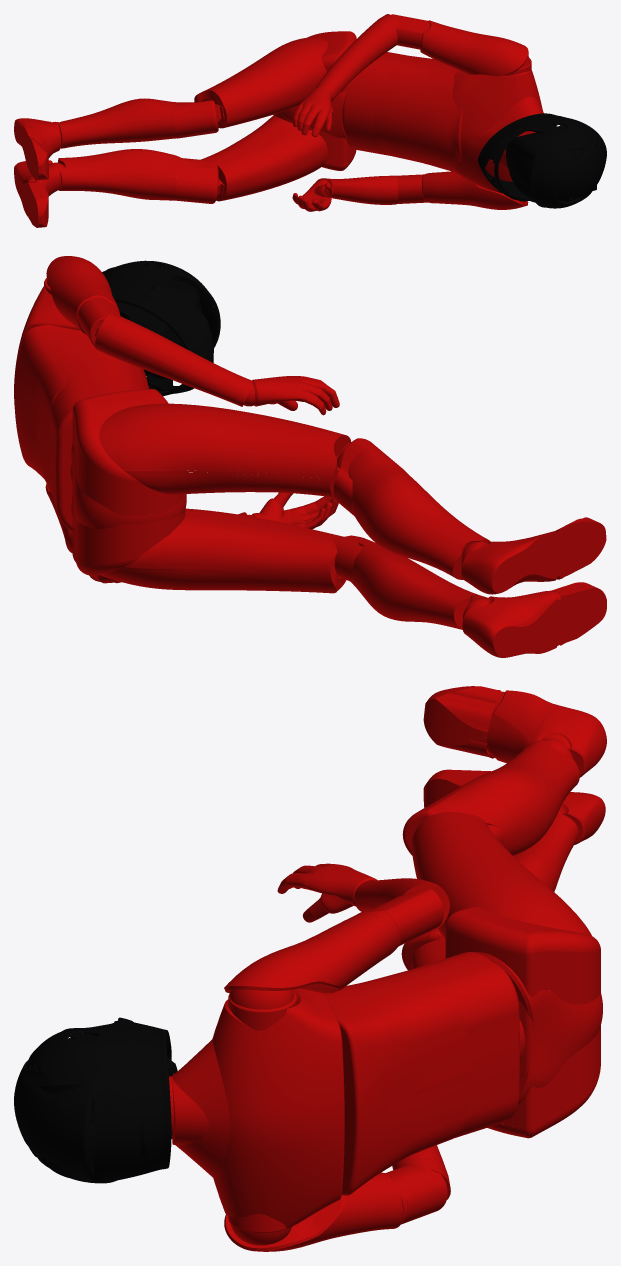
Rendered from c_20036_v01_driver_a_f.glb.
3 renders of one model, top to bottom at view 1: azimuth 30°, elevation 25°; view 2: azimuth 150°, elevation 25°; view 3: azimuth 270°, elevation 25°, orthographic. The views are drawn at different scales.
Visible parts, largest first — view 1: C_20036_V01_Driver_A; view 2: C_20036_V01_Driver_A; view 3: C_20036_V01_Driver_A.
Boxes of the visible parts, x1,y1,x2,y2 form: C_20036_V01_Driver_A: [14, 14, 606, 227]; C_20036_V01_Driver_A: [14, 256, 606, 657]; C_20036_V01_Driver_A: [14, 686, 606, 1251].
Bounding box in the file's own units: 1.44 × 0.5552 × 0.9188.
